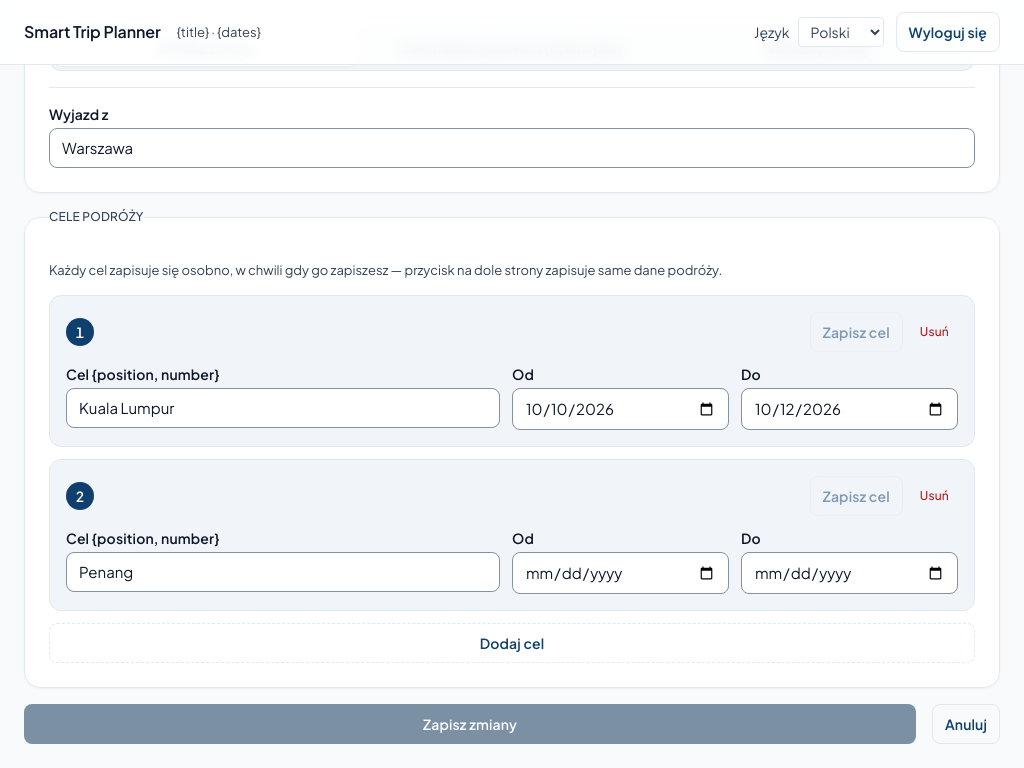
Test case: editing a base › keeps Save off until the card differs from the server
(page scrolled)
Expected: the 1st button "Zapisz cel" is disabled, [810,312,903,352]
Type "!" into the 1st field showing "Kuala Lumpur" at (283,408), box [66,388,500,428]
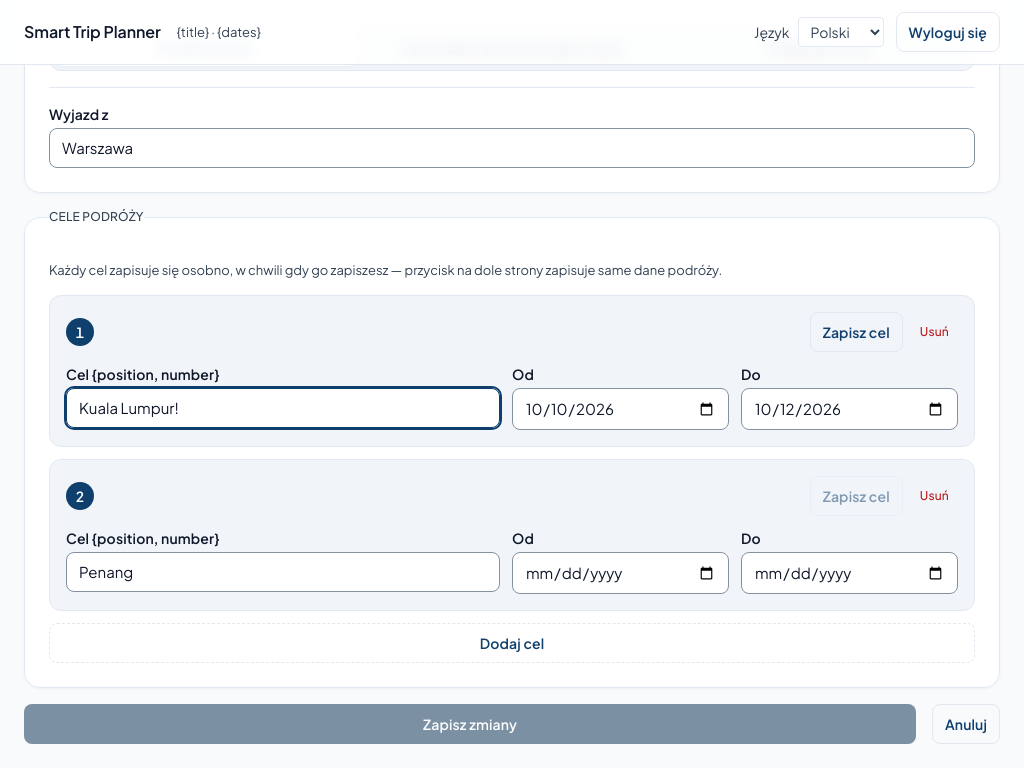
Result: the 1st button "Zapisz cel" is enabled at [810,312,903,352]
